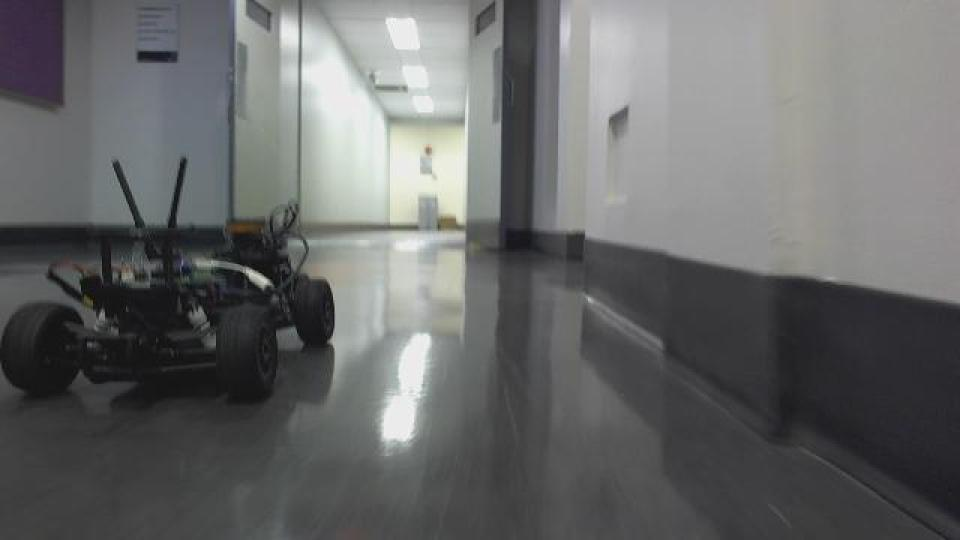car: (2, 153, 338, 403)
